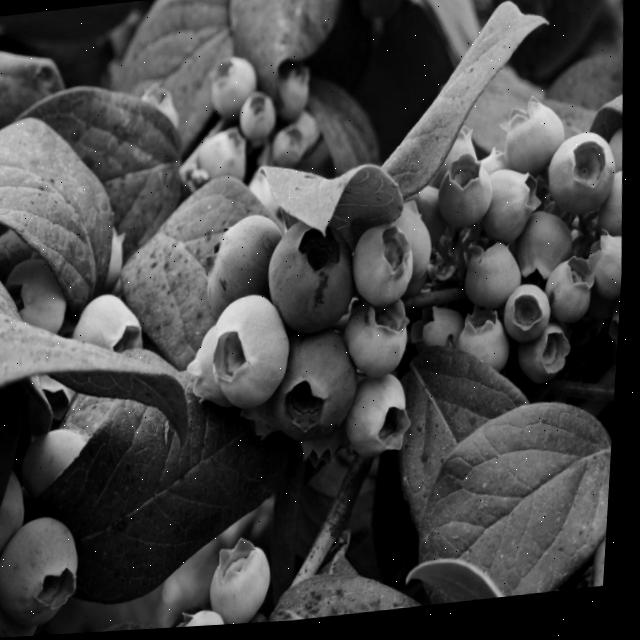RipeBlueBerry: (264, 219, 364, 343), (271, 335, 366, 452), (203, 216, 288, 317)
UnripeBlueBerry: (0, 510, 92, 634), (207, 294, 300, 416), (546, 135, 622, 225), (346, 299, 418, 389), (354, 225, 423, 317), (348, 378, 419, 466), (74, 289, 150, 367), (214, 541, 281, 629), (498, 105, 572, 181), (517, 211, 584, 291), (485, 170, 547, 248), (461, 245, 528, 317), (434, 162, 497, 237), (460, 311, 517, 385), (546, 262, 602, 333), (206, 54, 259, 123), (503, 289, 557, 353), (239, 95, 277, 147)
